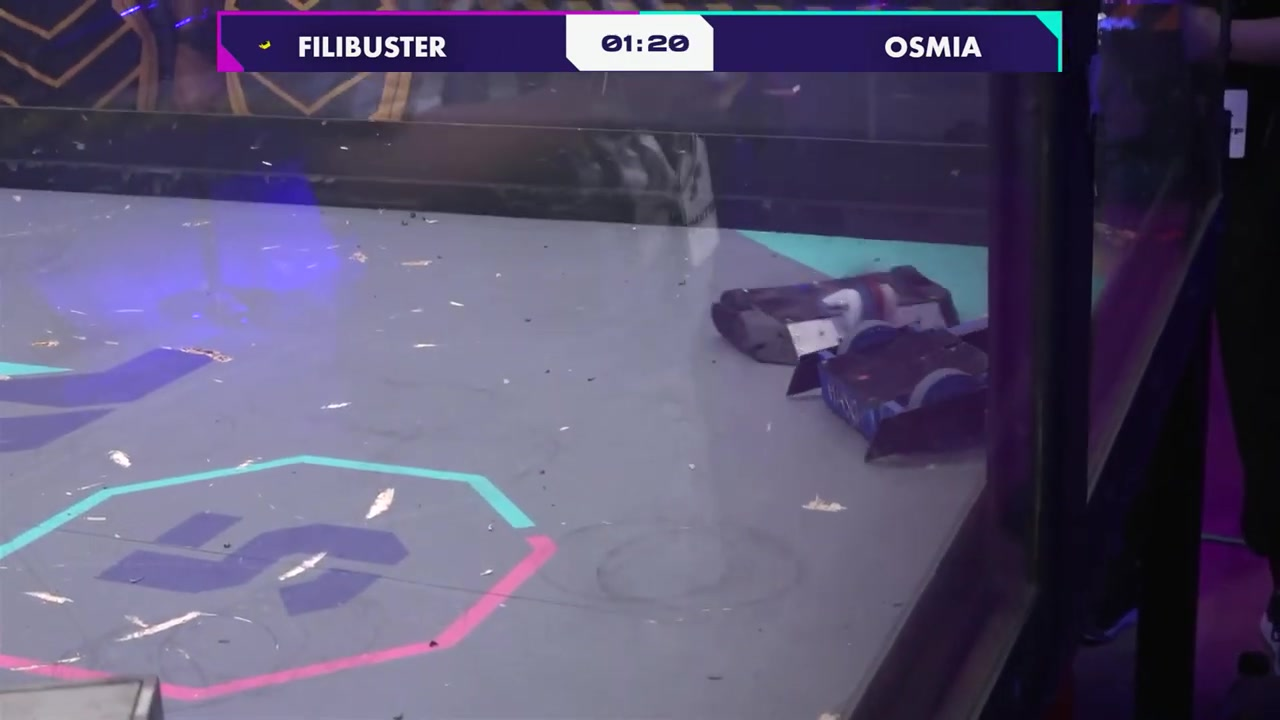combatbot: (785, 324, 992, 465), (712, 265, 963, 367)
housebot: (0, 666, 169, 720)
